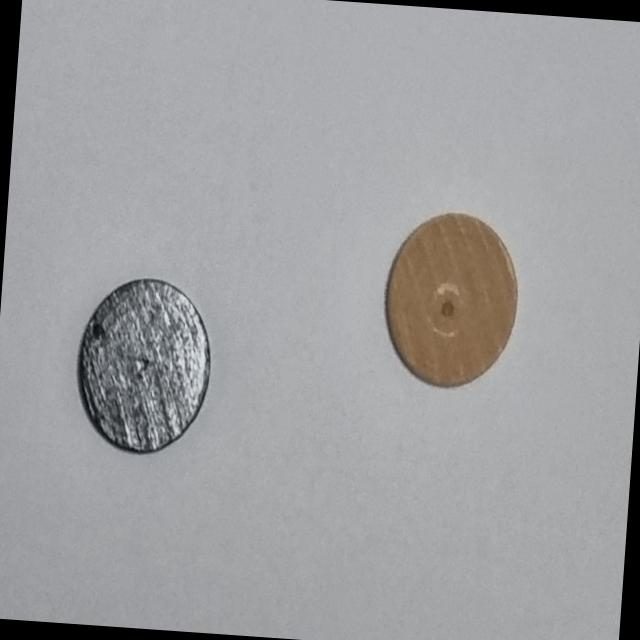black: (55, 256, 231, 470)
white: (368, 204, 532, 415)
